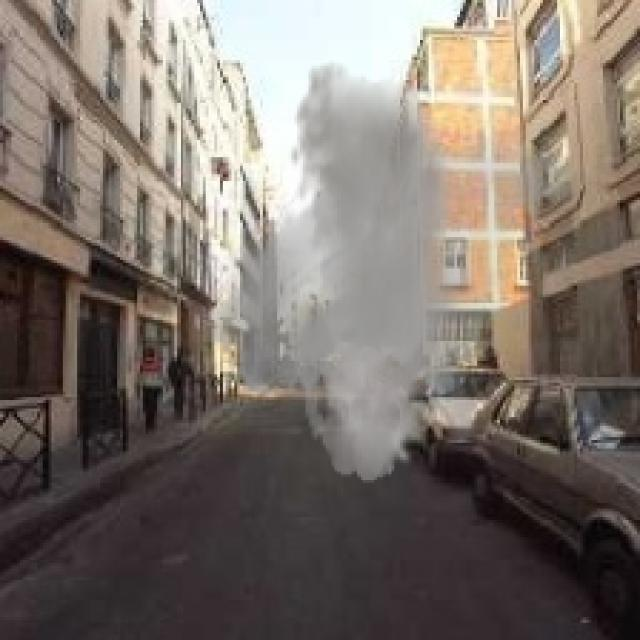smoke: (192, 60, 574, 483)
